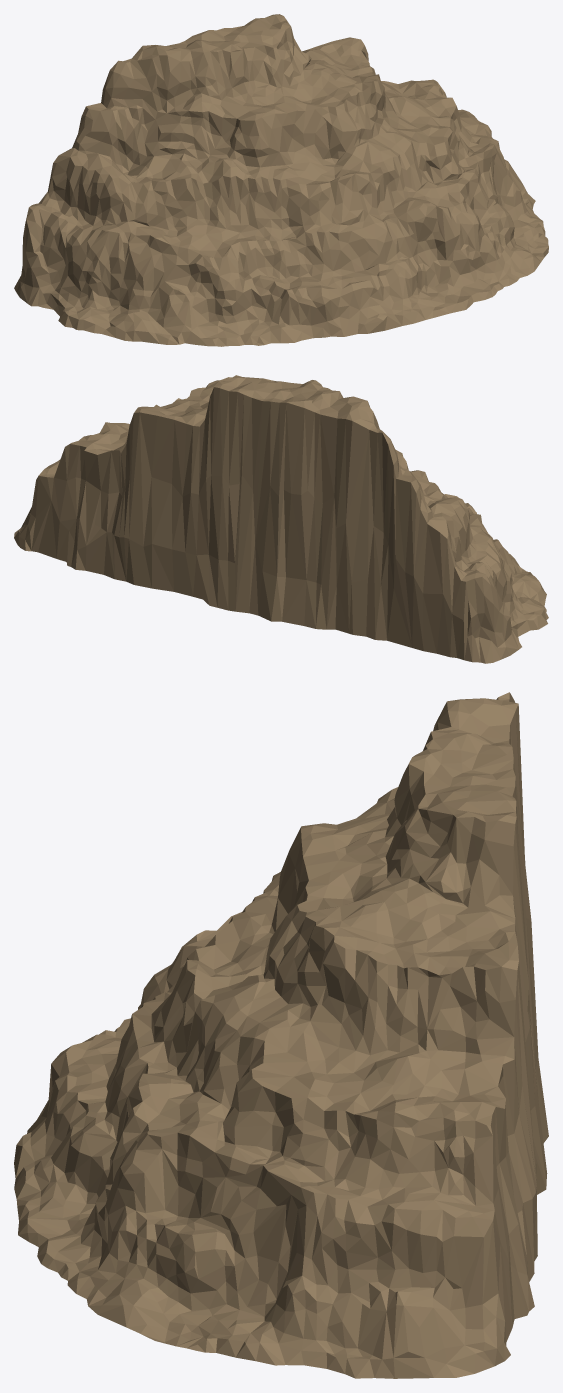
The model's file is Cliff01.fbx.
3 renders of one model, top to bottom at view 1: azimuth 30°, elevation 25°; view 2: azimuth 150°, elevation 25°; view 3: azimuth 270°, elevation 25°, orthographic. The views are drawn at different scales.
Visible parts, largest first — view 1: Cliff01; view 2: Cliff01; view 3: Cliff01.
Part boxes in pixels (x1,y1,x2,y2): Cliff01: [14, 14, 548, 346]; Cliff01: [14, 375, 548, 663]; Cliff01: [14, 692, 548, 1378].
Bounding box in the file's own units: 160 × 67.45 × 85.14.
